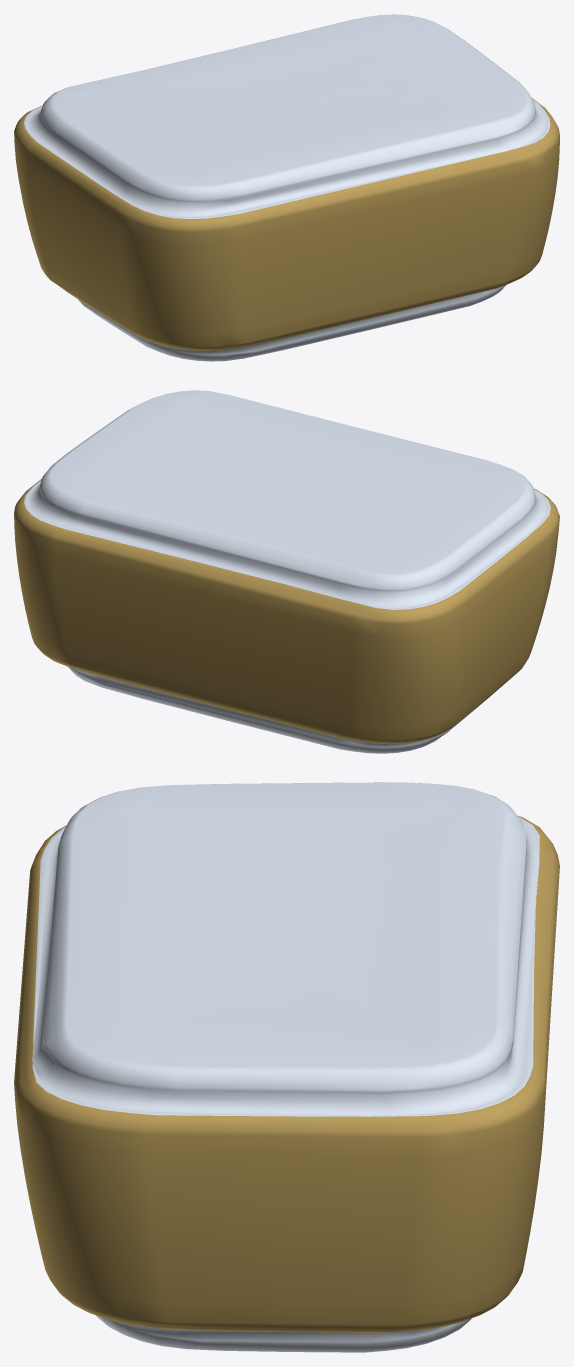
The model's file is SM_Building_03_Version_04_Part_02.fbx.
3 renders of one model, top to bottom at view 1: azimuth 30°, elevation 25°; view 2: azimuth 150°, elevation 25°; view 3: azimuth 270°, elevation 25°, orthographic. The views are drawn at different scales.
Parts seen in each view (by area): view 1: SM_Building_03_Version_04_Part_02; view 2: SM_Building_03_Version_04_Part_02; view 3: SM_Building_03_Version_04_Part_02.
Part boxes in pixels (<box>): SM_Building_03_Version_04_Part_02: <box>14,14,559,361</box>; SM_Building_03_Version_04_Part_02: <box>14,390,559,753</box>; SM_Building_03_Version_04_Part_02: <box>14,782,559,1352</box>.
Size of the model in its own units: 5121 by 2159 by 3606.
